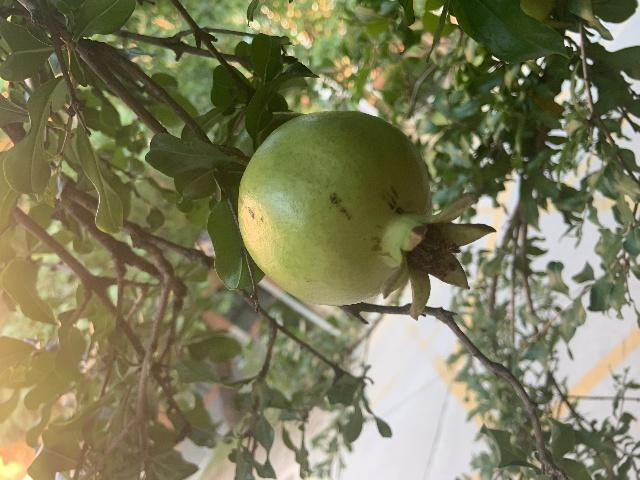mid-growth: (237, 110, 497, 320)
